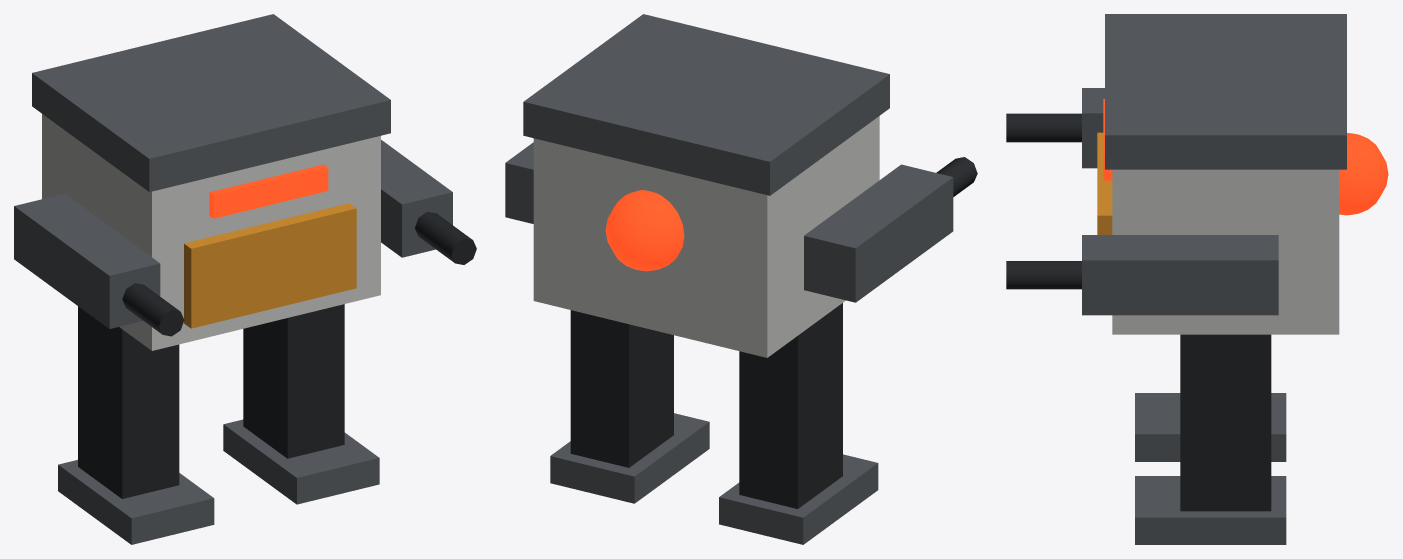
Rendered from warden.glb.
The picture shows the model from 3 angles, left to right: view 1: azimuth 30°, elevation 25°; view 2: azimuth 150°, elevation 25°; view 3: azimuth 270°, elevation 25°; orthographic projection. The views are drawn at different scales.
Parts seen in each view (by area): view 1: Warden; view 2: Warden; view 3: Warden.
Part boxes in pixels (x1=…): Warden: x1=14, y1=14, x2=476, y2=544; Warden: x1=505, y1=14, x2=977, y2=544; Warden: x1=1006, y1=14, x2=1388, y2=544.
Size of the model in its own units: 5.4 by 5.95 by 5.05.
